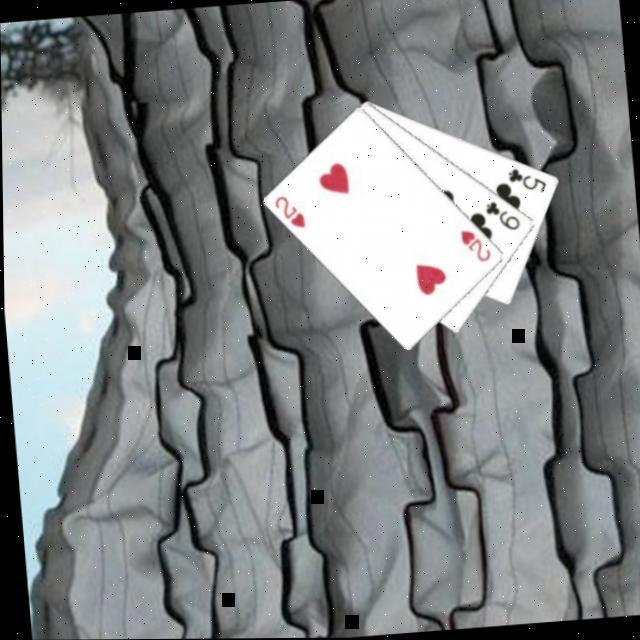2H: (271, 192, 309, 234), (457, 226, 494, 266)
5C: (506, 163, 550, 200)
9C: (482, 197, 523, 236)
